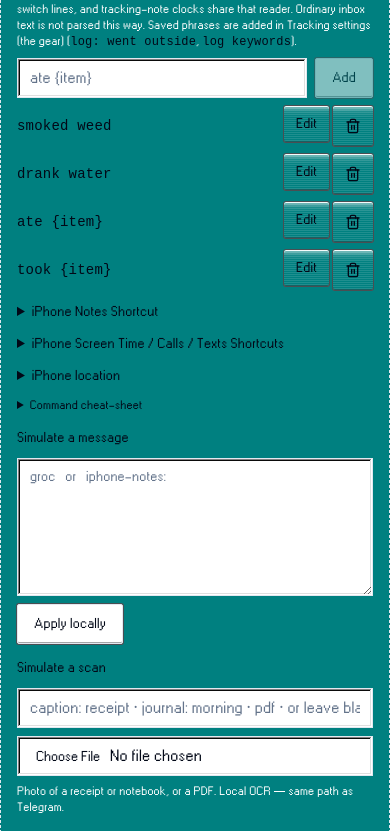
Test: MessageIngestPanel › simulates a quick-add phrase into the inbox
(page scrolled)
Step 1. Type "qa: pick up milk" into the text box labelled "Simulate a message" → (195, 527), box [17, 458, 373, 596]
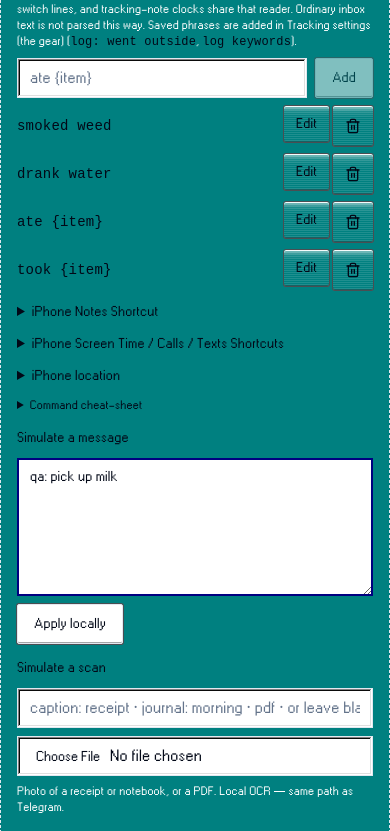
Step 2. Click the button "Apply locally" → (70, 624), box [17, 604, 123, 644]
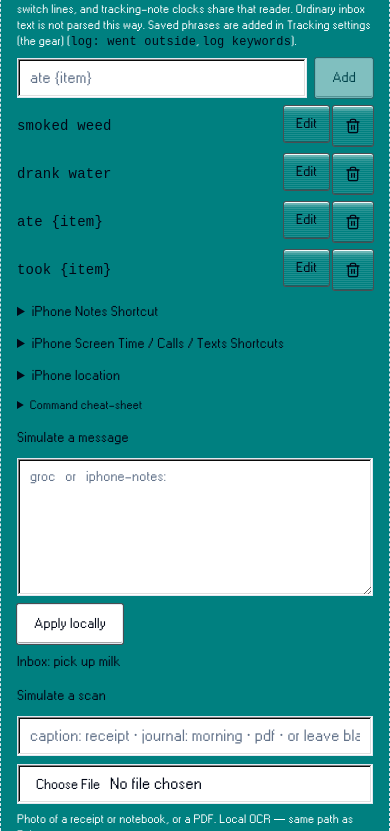
Expected: the text "Inbox: pick up milk" is shown, [17, 655, 121, 668]
